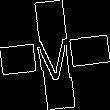M_N: (29, 27, 81, 83)
